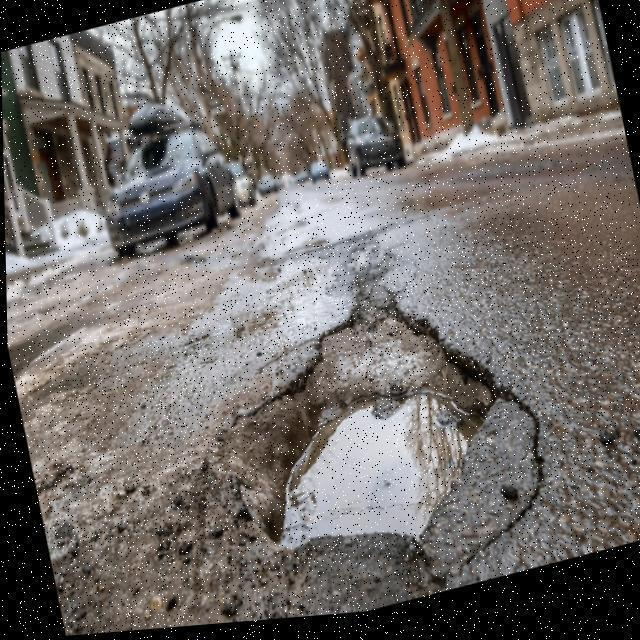Pothole: (207, 272, 510, 552)
